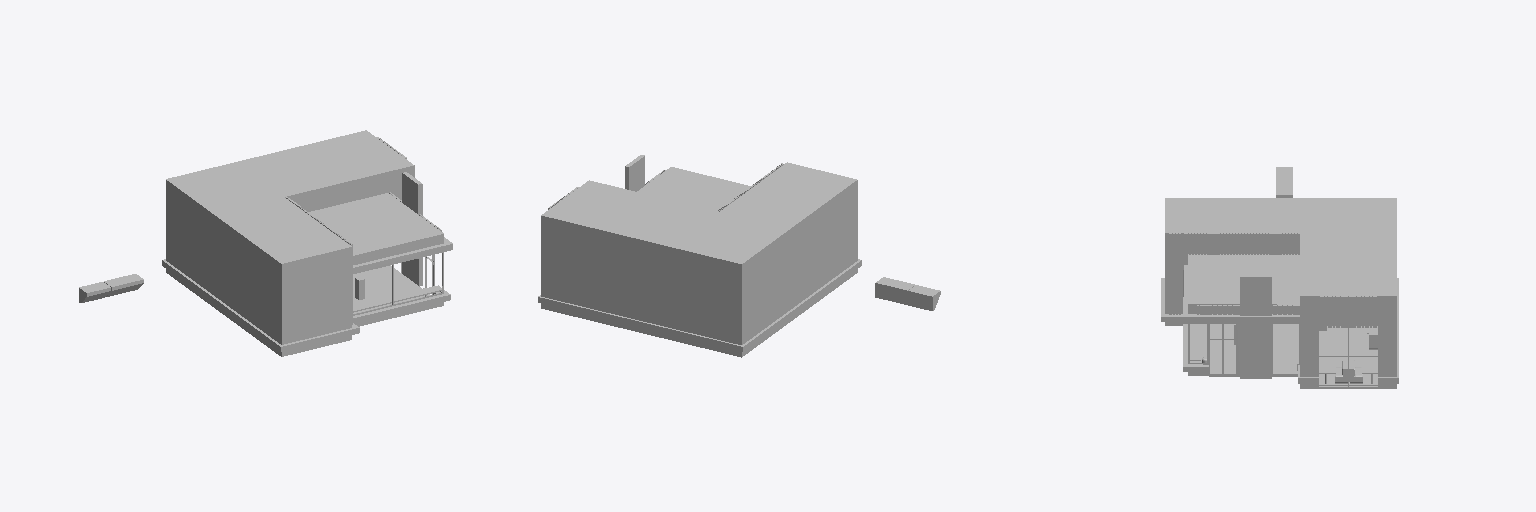
3 renders of one model, left to right at view 1: azimuth 30°, elevation 25°; view 2: azimuth 150°, elevation 25°; view 3: azimuth 270°, elevation 25°, orthographic.
Visible parts, largest first — view 1: blackbuild, whitebuild, polup, pollbuild, redbuild, Cube.005, Cube.012, framebuild; view 2: blackbuild, whitebuild, pollbuild, Cube.005, redbuild; view 3: blackbuild, polup, stickbuild, redbuild, whitebuild, woodbuild, framebuild, Cube.005.
Boxes of the visible parts, x1,y1,x2,y2 form: blackbuild: [166, 130, 443, 344]; whitebuild: [162, 237, 452, 351]; polup: [353, 265, 429, 313]; pollbuild: [166, 259, 443, 356]; redbuild: [402, 172, 422, 285]; Cube.005: [79, 274, 143, 302]; Cube.012: [353, 286, 441, 312]; framebuild: [353, 252, 443, 315]; blackbuild: [541, 162, 857, 344]; whitebuild: [538, 259, 861, 351]; pollbuild: [541, 269, 857, 357]; Cube.005: [875, 277, 940, 310]; redbuild: [625, 155, 644, 191]; blackbuild: [1165, 198, 1396, 376]; polup: [1190, 324, 1377, 385]; stickbuild: [1169, 233, 1376, 327]; redbuild: [1240, 274, 1271, 378]; whitebuild: [1161, 265, 1398, 383]; woodbuild: [1172, 233, 1377, 325]; framebuild: [1188, 324, 1377, 388]; Cube.005: [1276, 167, 1292, 197].
Size of the model in its own units: 1225 by 350 by 737.